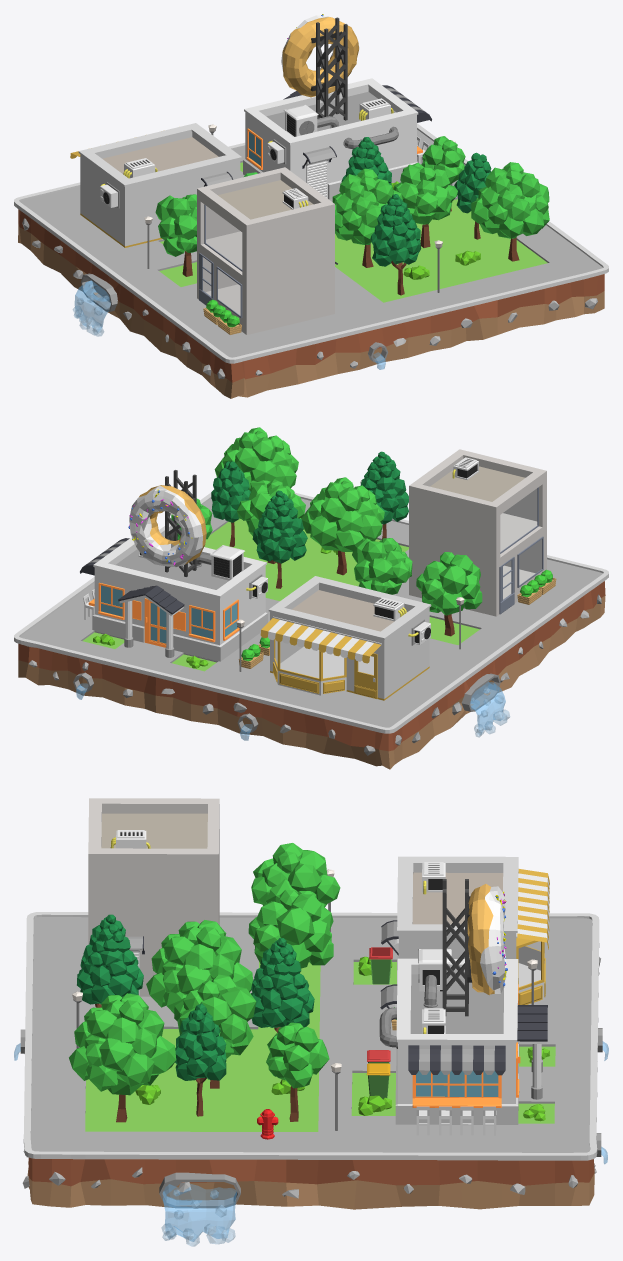
The model's file is City_Block.fbx.
The picture shows the model from 3 angles, top to bottom: view 1: azimuth 30°, elevation 25°; view 2: azimuth 150°, elevation 25°; view 3: azimuth 270°, elevation 25°; orthographic projection. The views are drawn at different scales.
Visible parts, largest first — view 1: Platform, facade, facade_2, cafe, Sphere_13, Sphere_31, Torus_1, Sphere_17, Sphere_1_13, Plane_2_2, Sphere_17_2, Cube_1 (+8 smaller); view 2: Platform, facade, facade_2, cafe, Torus_1, Sphere_31, Sphere_13, Sphere_17_2, Sphere_43, Sphere_17_3, canopy, Sphere_1_13 (+16 smaller); view 3: Platform, facade, cafe, facade_2, Sphere_13, Sphere_31, Sphere_17_3, Sphere_43, Sphere_1_13, Torus_1, Sphere_17_2, Sphere_17 (+15 smaller).
Part boxes in pixels (<box>): Platform: <box>14,123,608,398</box>; facade: <box>197,167,334,334</box>; facade_2: <box>78,123,241,247</box>; cafe: <box>243,78,418,199</box>; Sphere_13: <box>471,162,549,238</box>; Sphere_31: <box>332,168,403,244</box>; Torus_1: <box>281,15,359,97</box>; Sphere_17: <box>394,162,457,224</box>; Sphere_1_13: <box>370,194,421,266</box>; Plane_2_2: <box>316,17,347,120</box>; Sphere_17_2: <box>155,194,196,256</box>; Cube_1: <box>206,207,241,313</box>; Platform: <box>14,492,608,769</box>; facade: <box>409,449,546,616</box>; facade_2: <box>268,576,431,700</box>; cafe: <box>92,537,267,661</box>; Torus_1: <box>129,485,206,567</box>; Sphere_31: <box>301,477,384,551</box>; Sphere_13: <box>214,427,298,491</box>; Sphere_17_2: <box>416,552,482,615</box>; Sphere_43: <box>252,490,307,563</box>; Sphere_17_3: <box>352,538,412,594</box>; canopy: <box>260,616,381,663</box>; Sphere_1_13: <box>360,451,408,524</box>; Platform: <box>23,912,599,1209</box>; facade: <box>88,798,219,996</box>; cafe: <box>395,958,519,1124</box>; facade_2: <box>397,856,545,1004</box>; Sphere_13: <box>69,993,176,1095</box>; Sphere_31: <box>146,920,252,1013</box>; Sphere_17_3: <box>248,889,333,968</box>; Sphere_43: <box>251,938,314,1027</box>; Sphere_1_13: <box>77,914,143,1004</box>; Torus_1: <box>467,884,506,995</box>; Sphere_17_2: <box>251,843,340,907</box>; Sphere_17: <box>174,974,256,1058</box>.
Size of the model in its own units: 1534 by 742 by 1436.
